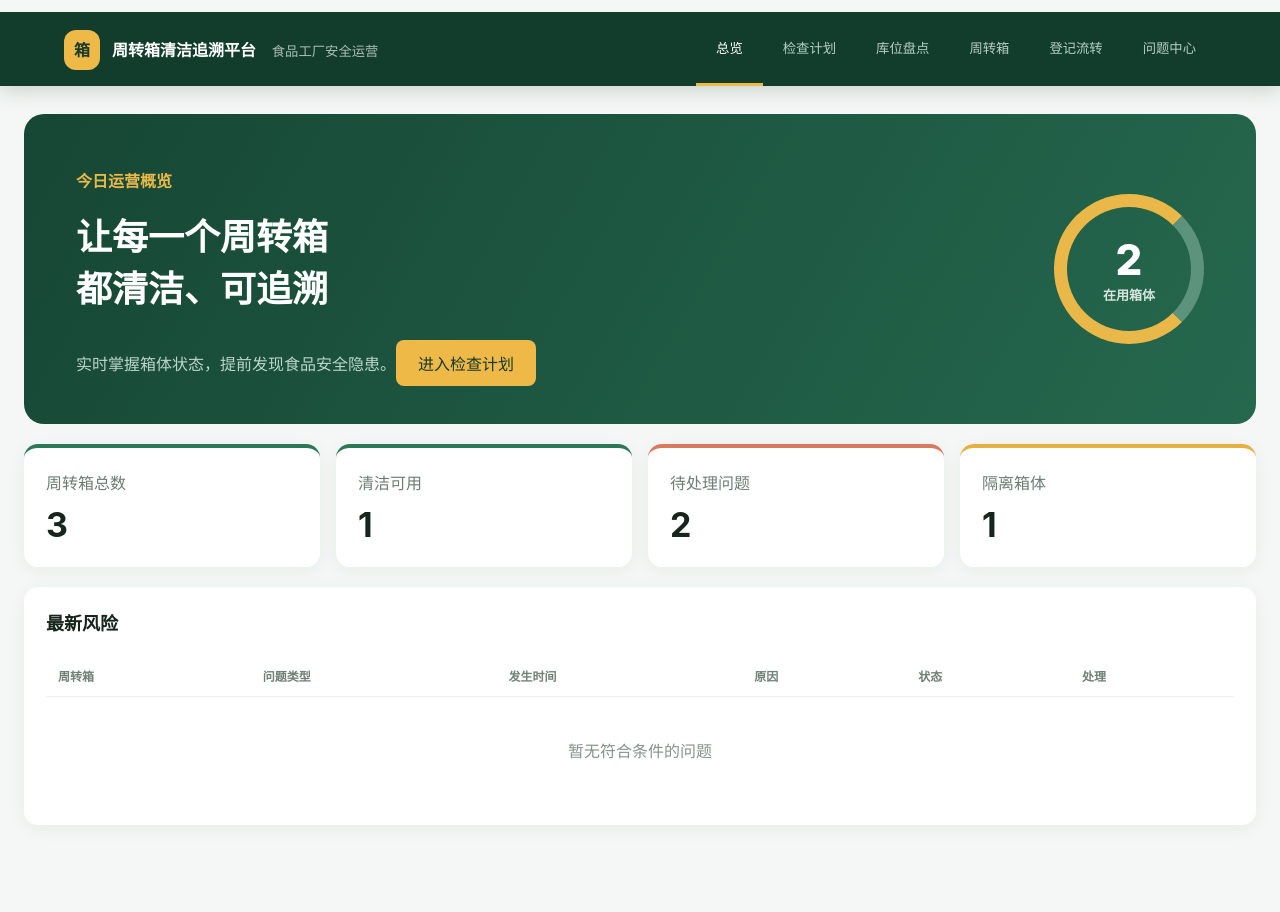
Test: backend 422 shows fixable hint and keeps inputs and previous list
Check: the text "周转箱总数" is shown, box [46,473,126,493]
Click the button "进入检查计划" at (466, 363), box [396,340,536,386]
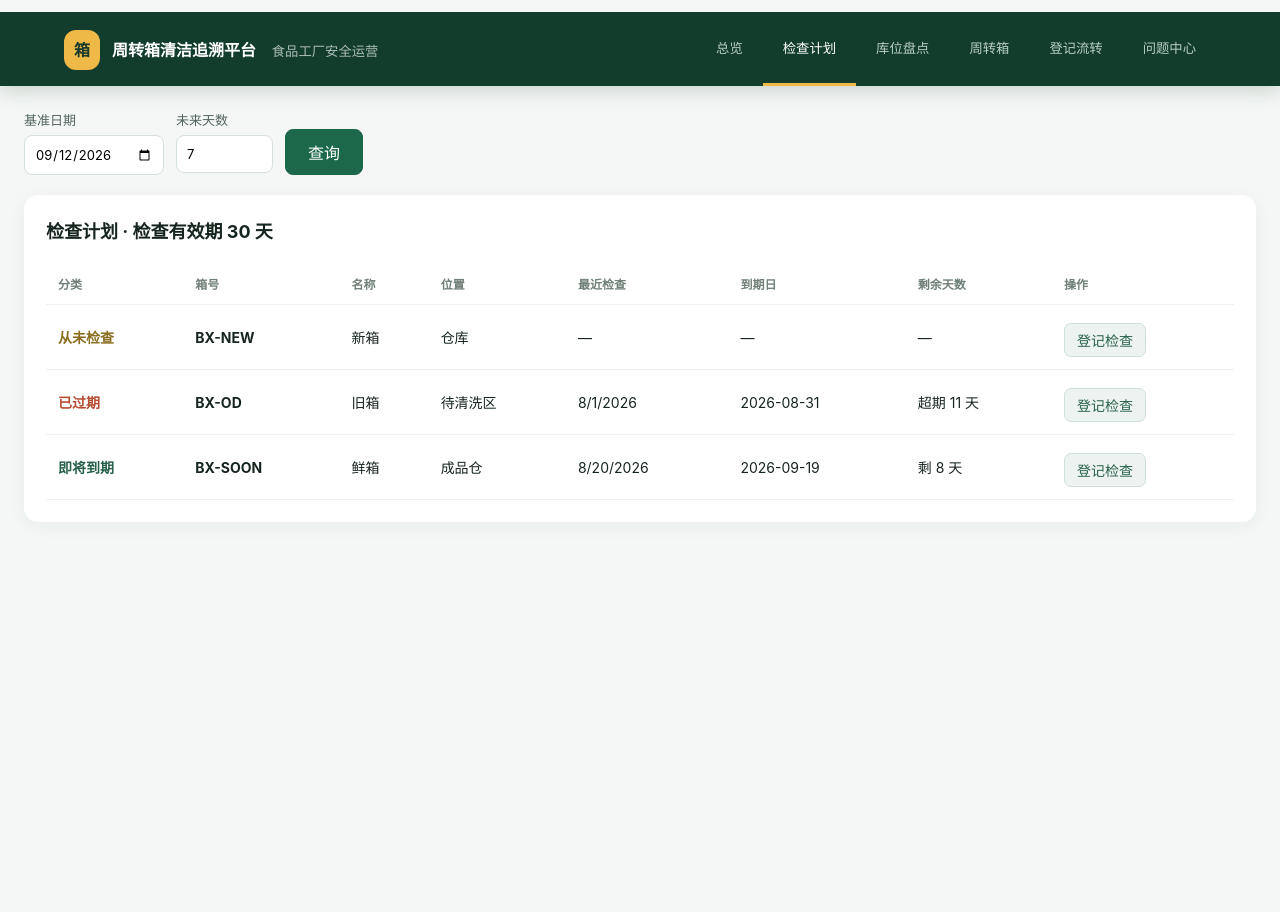
Check: the text "BX-NEW" is shown, box [195,328,255,346]
Type "2026-09-01" into the date field labelled "基准日期" at (94, 155), box [24,135,164,175]
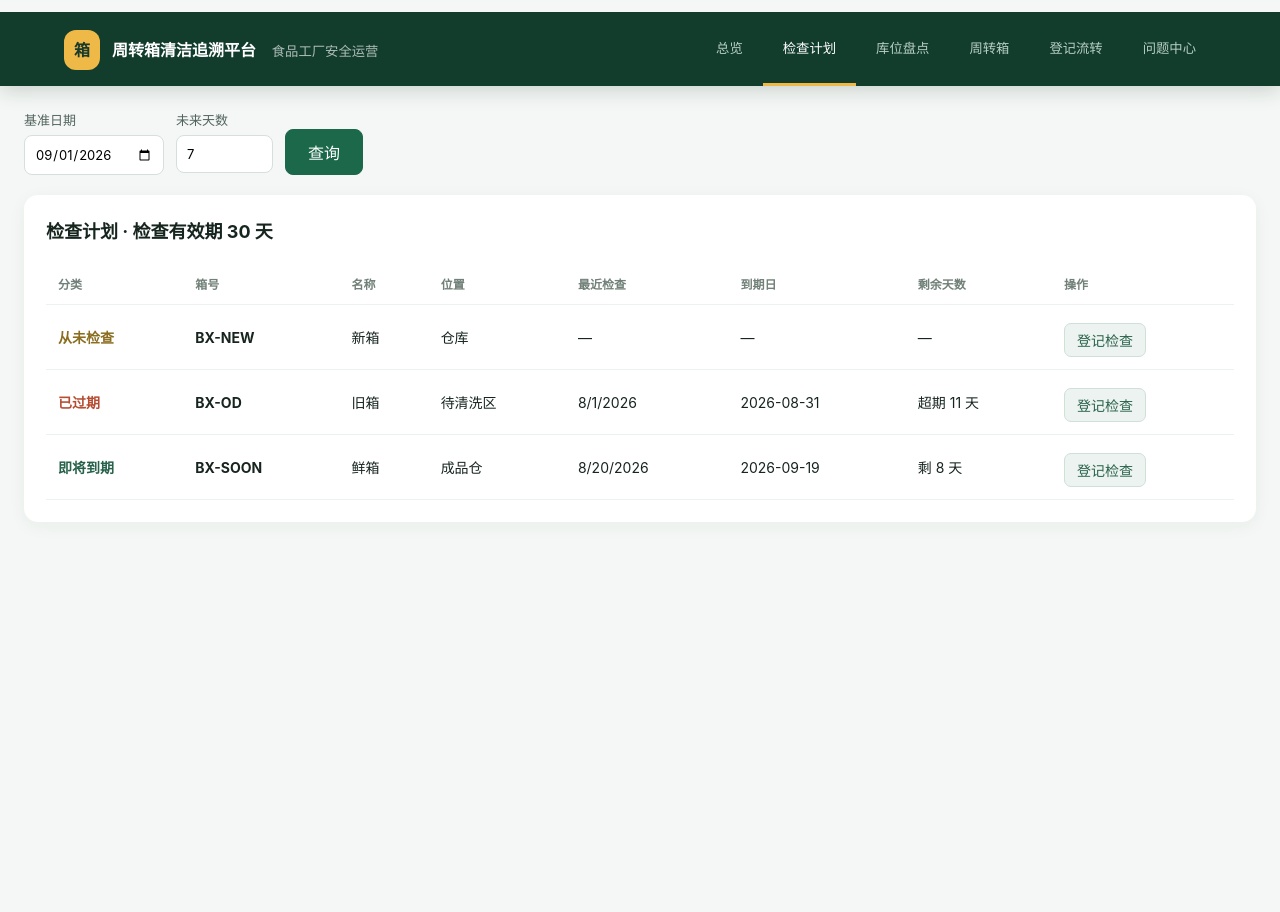
Click the button "查询" at (324, 152), box [285,129,363,175]
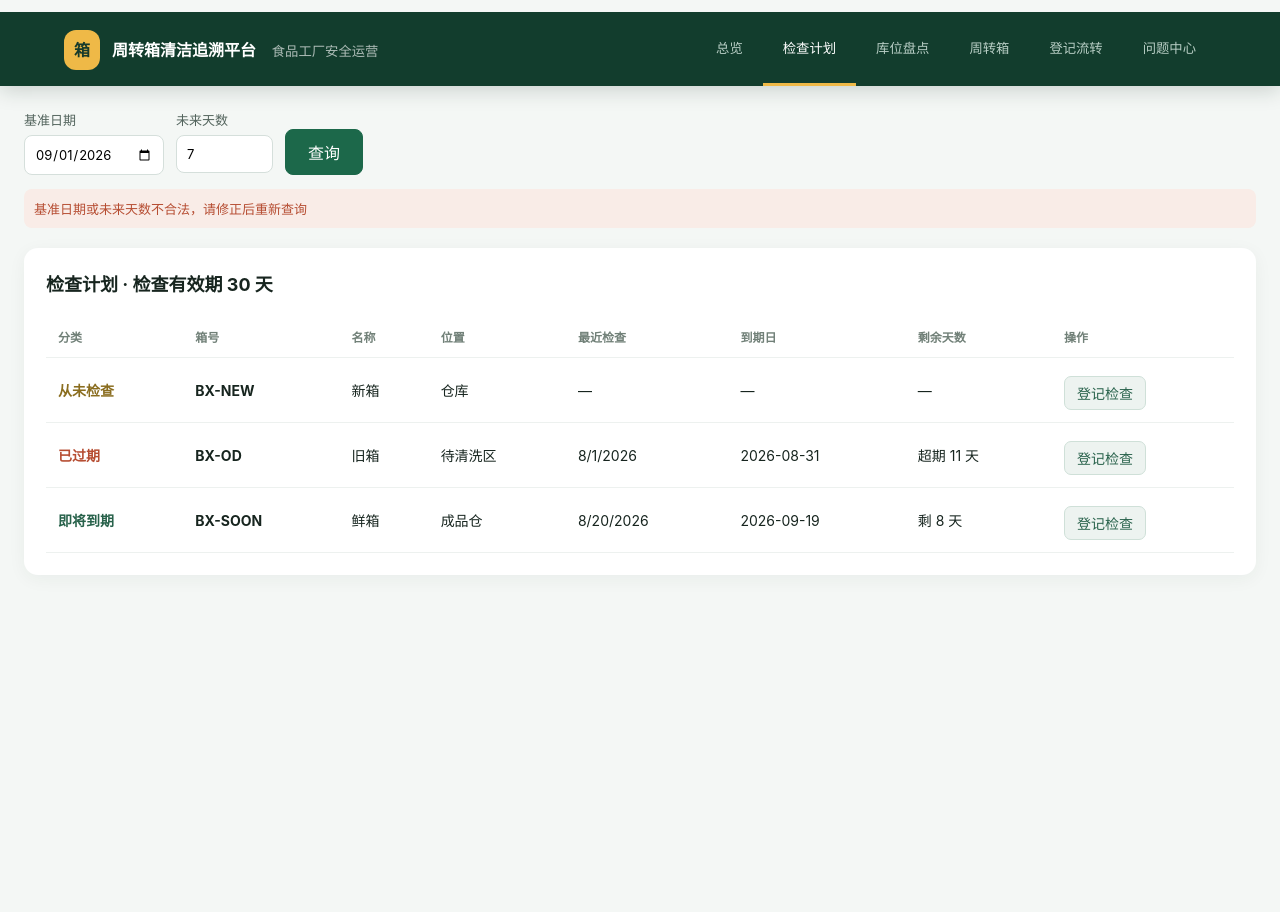
Check: the text "BX-NEW" is shown, box [195,382,255,398]
Check: the message reads "基准日期或未来天数不合法，请修正后重新查询", box [34,201,307,217]
